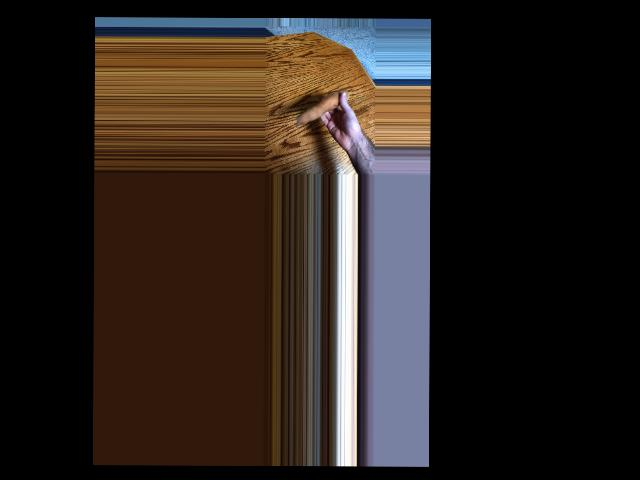sweet_potato: (296, 89, 351, 125)
